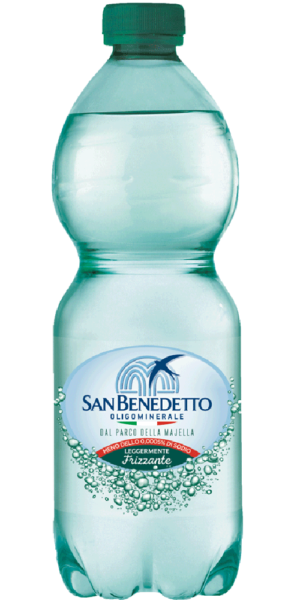PlasticBottle: (41, 5, 255, 598)
